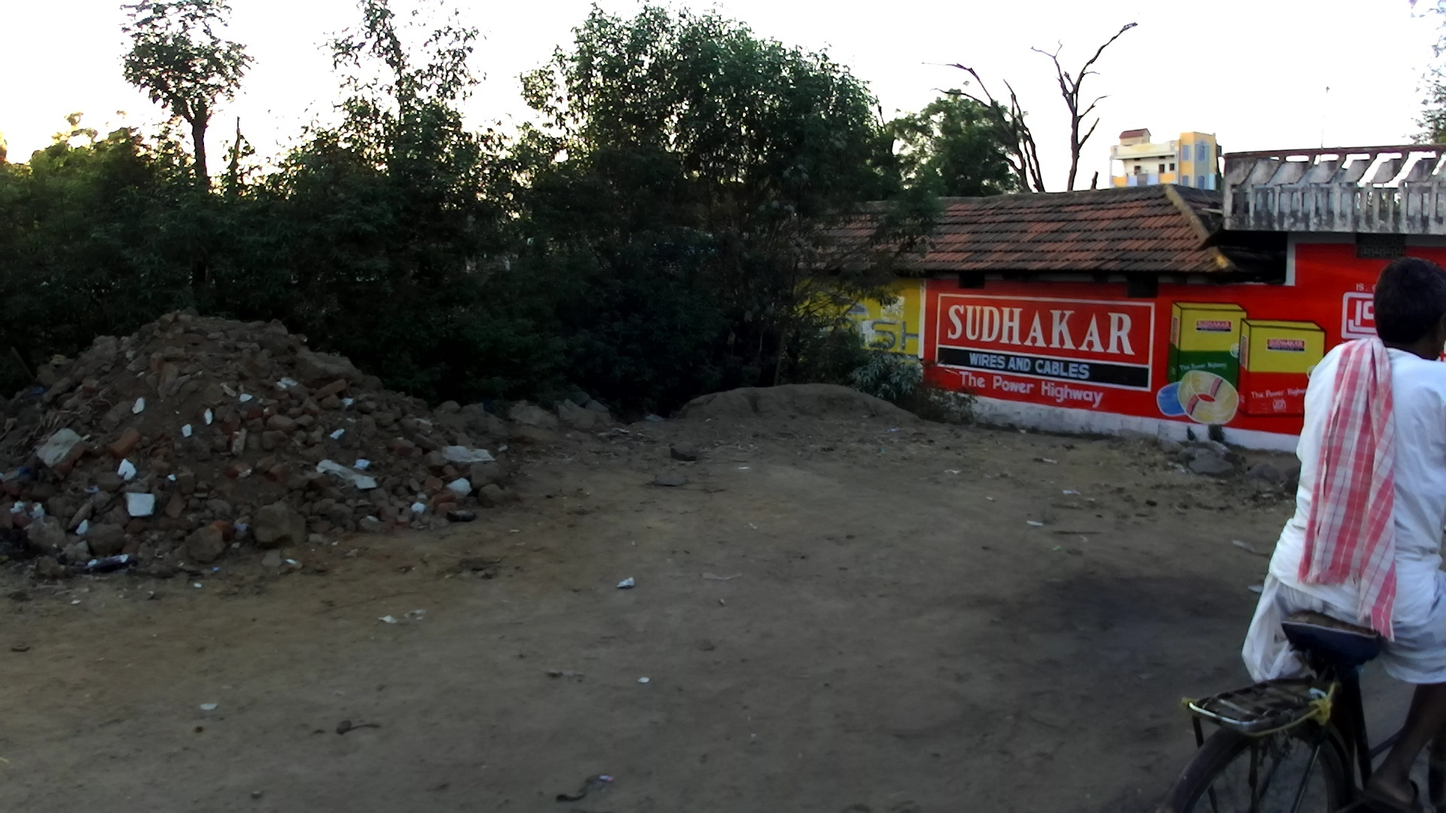bicycle: (1158, 614, 1446, 813)
rider: (1240, 257, 1446, 813)
